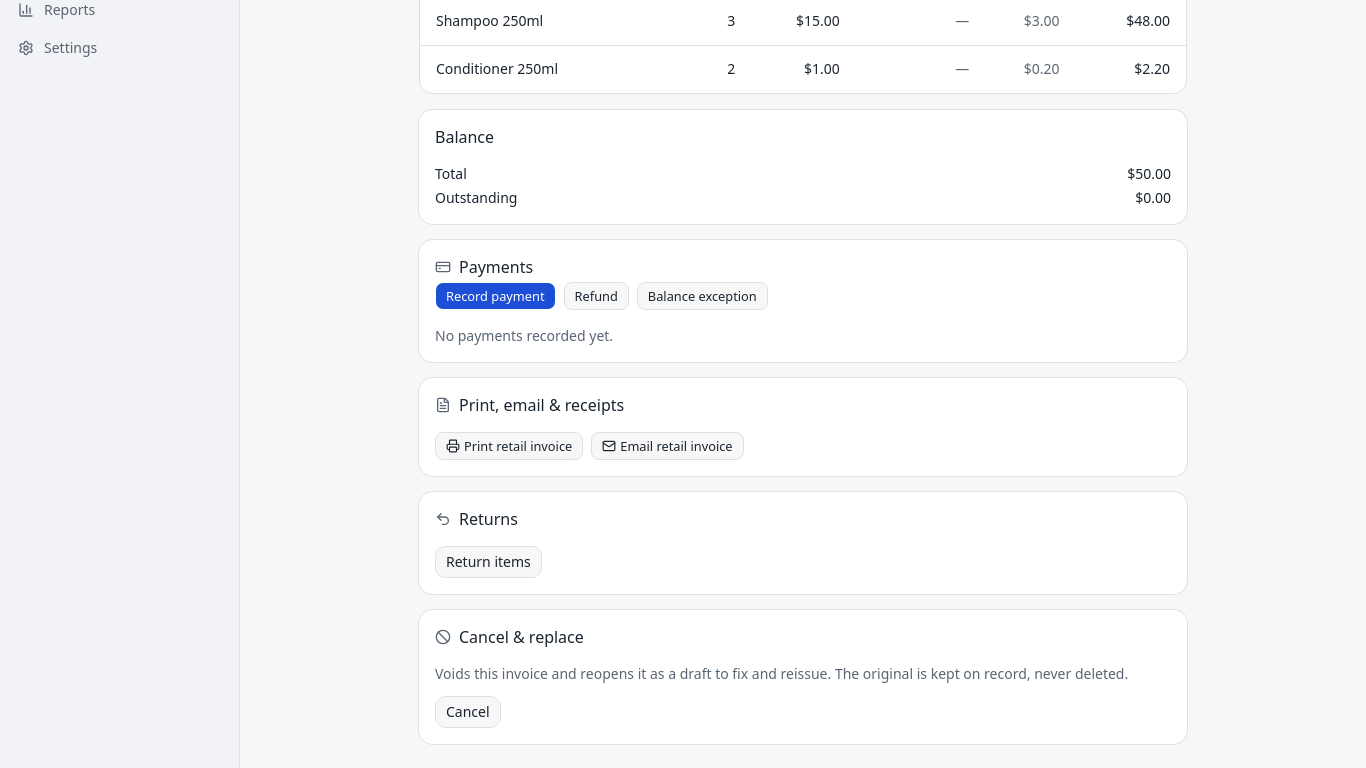
Test: only lines with remaining quantity are offered, each capped at what remains
The width and height of the screenshot is (1366, 768).
(page scrolled)
Click the button "Return items" at [488, 562], box [435, 546, 542, 578]
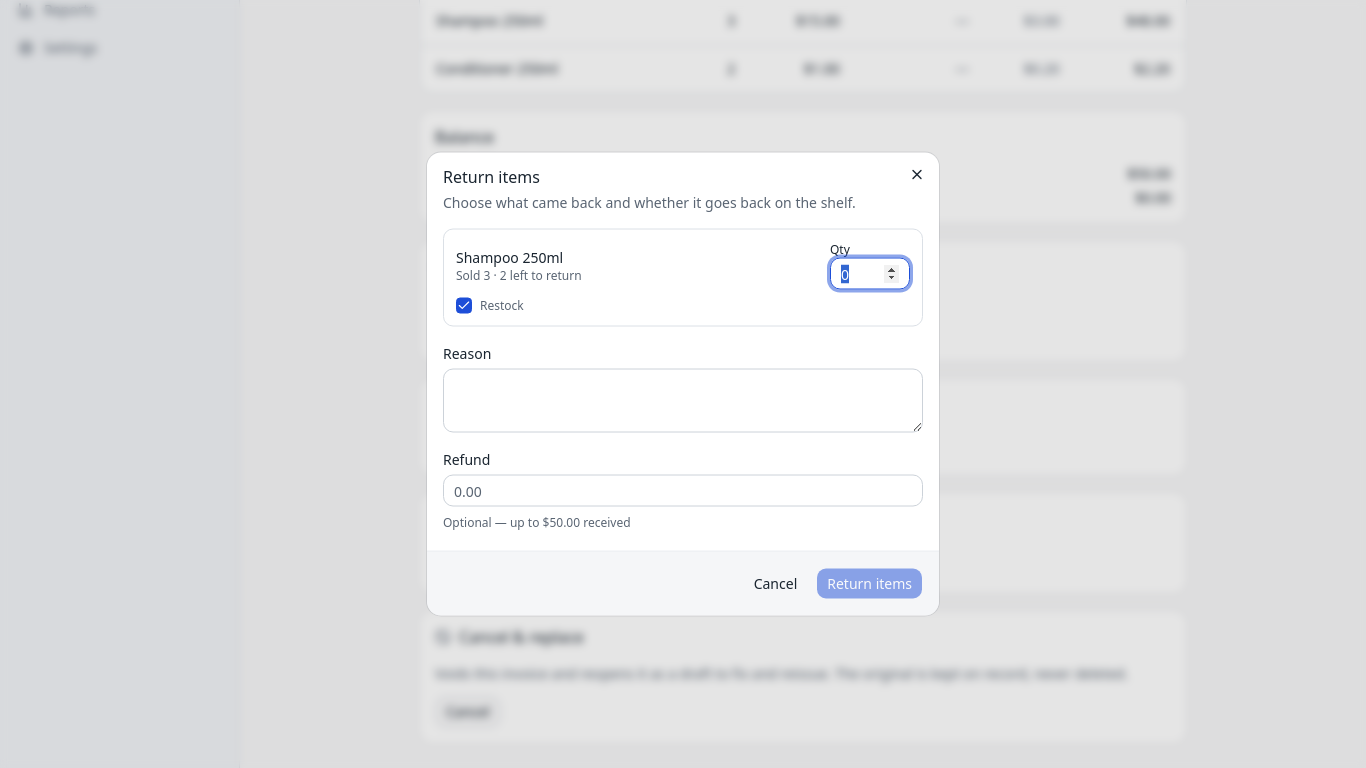
Expected: the text "Shampoo 250ml" is shown, [456, 248, 582, 268]
Expected: the text "Sold 3 · 2 left to return" is shown, [456, 268, 582, 284]
